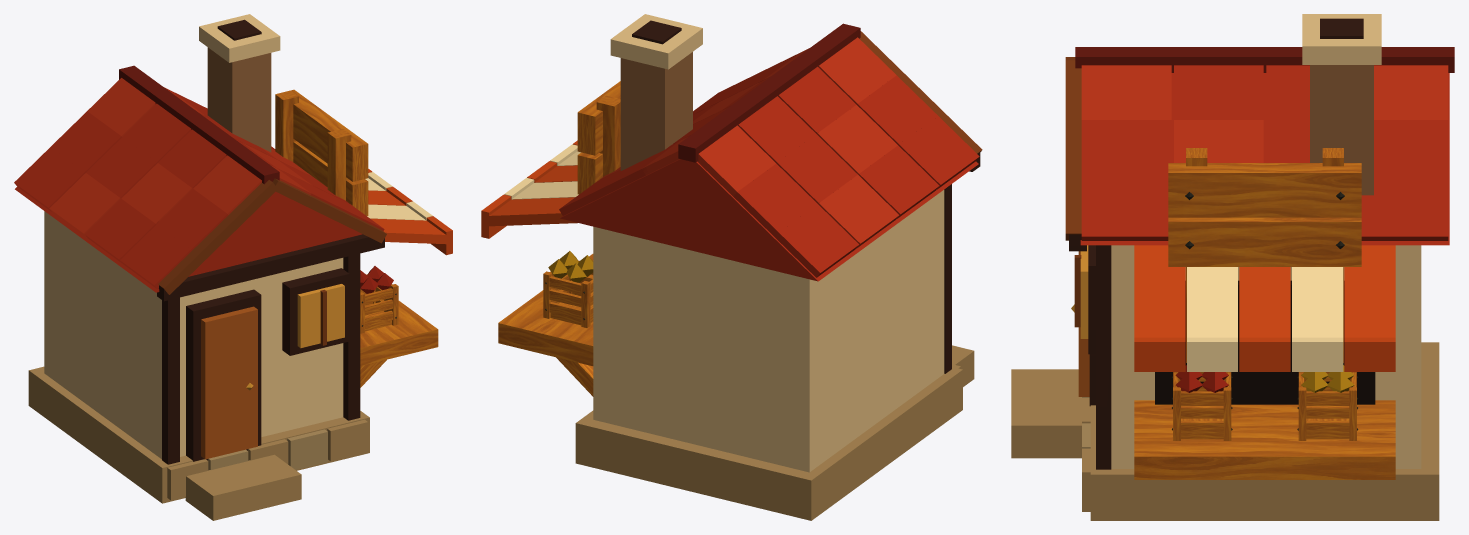
The model's file is shop.obj.
3 views of the same model, side by side, from view 1: azimuth 30°, elevation 25°; view 2: azimuth 150°, elevation 25°; view 3: azimuth 270°, elevation 25° (orthographic). The views are drawn at different scales.
Parts seen in each view (by area): view 1: shop; view 2: shop; view 3: shop.
Boxes of the visible parts, x1,y1,x2,y2 form: shop: (14,14,452,520); shop: (481,14,982,520); shop: (1011,14,1454,520).
Size of the model in its own units: 1.87 by 2.03 by 1.73.
Materials: 2 (2 with a texture image).
